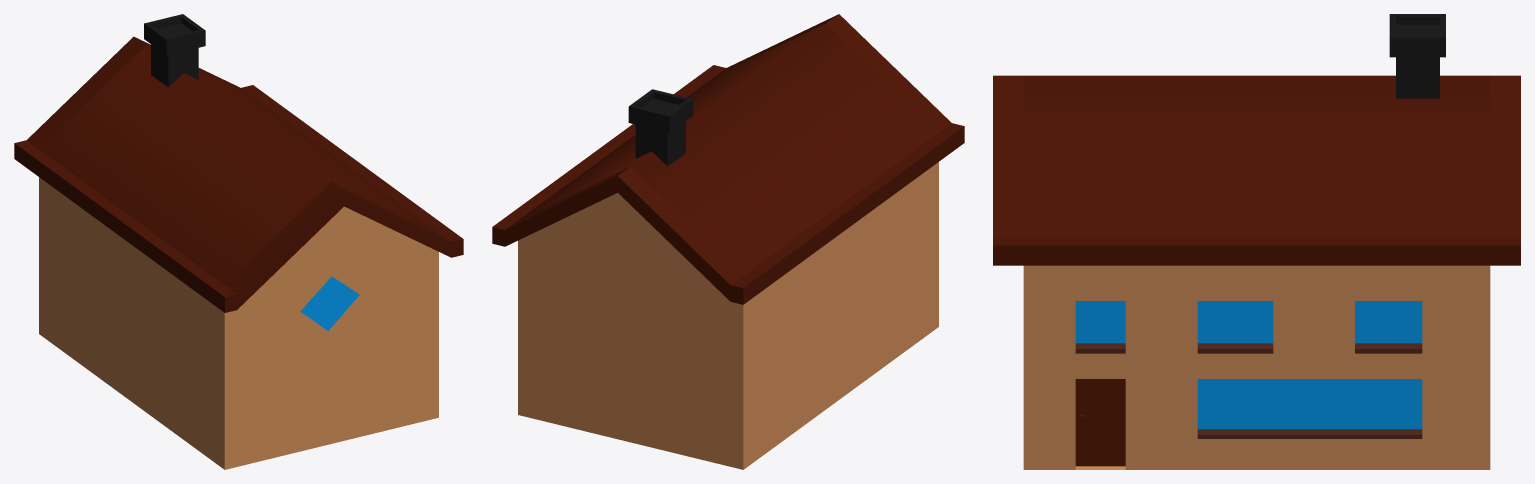
The model's file is house.FBX.
3 views of the same model, side by side, from view 1: azimuth 30°, elevation 25°; view 2: azimuth 150°, elevation 25°; view 3: azimuth 270°, elevation 25° (orthographic). The views are drawn at different scales.
Visible parts, largest first — view 1: Box001, Box002; view 2: Box001, Box002; view 3: Box001, Box002.
Boxes of the visible parts, x1,y1,x2,y2 form: Box001: (14, 36, 463, 469); Box002: (144, 14, 205, 87); Box001: (492, 14, 964, 469); Box002: (628, 89, 693, 166); Box001: (993, 75, 1520, 469); Box002: (1389, 14, 1445, 98).
Bounding box in the file's own units: 78.65 × 95.05 × 120.
